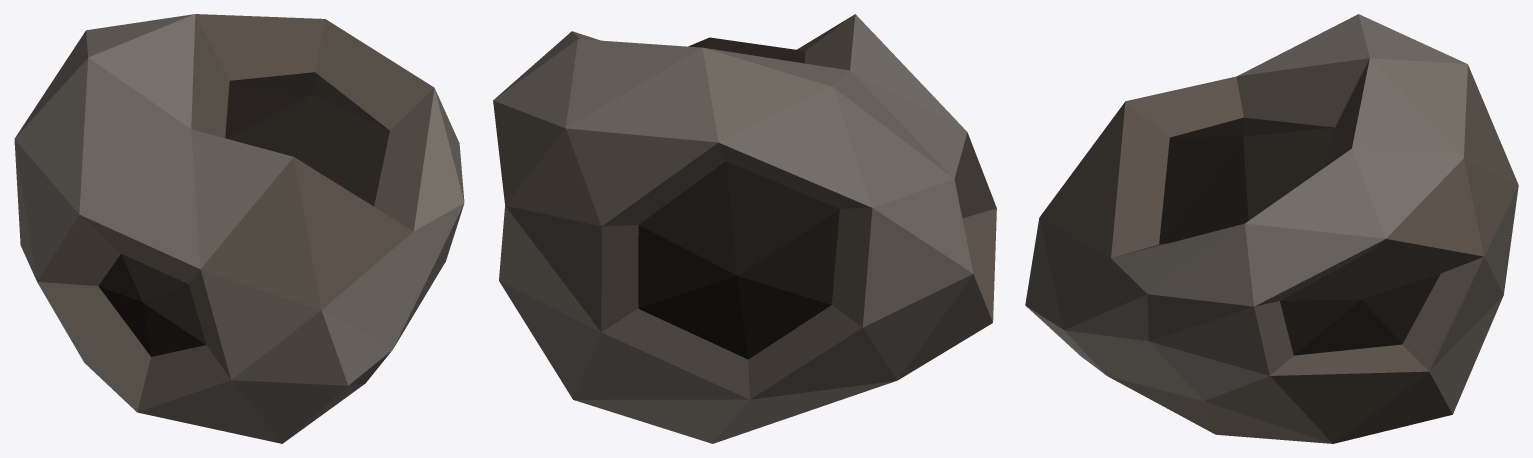
File: Asteroid3.fbx
3 views of the same model, side by side, from view 1: azimuth 30°, elevation 25°; view 2: azimuth 150°, elevation 25°; view 3: azimuth 270°, elevation 25° (orthographic). The views are drawn at different scales.
Visible parts, largest first — view 1: Asteroid3; view 2: Asteroid3; view 3: Asteroid3.
Boxes of the visible parts, <box> form: Asteroid3: <box>14,14,464,443</box>; Asteroid3: <box>493,14,996,443</box>; Asteroid3: <box>1025,14,1518,443</box>.
Bounding box in the file's own units: 1.96 × 1.66 × 1.98.
